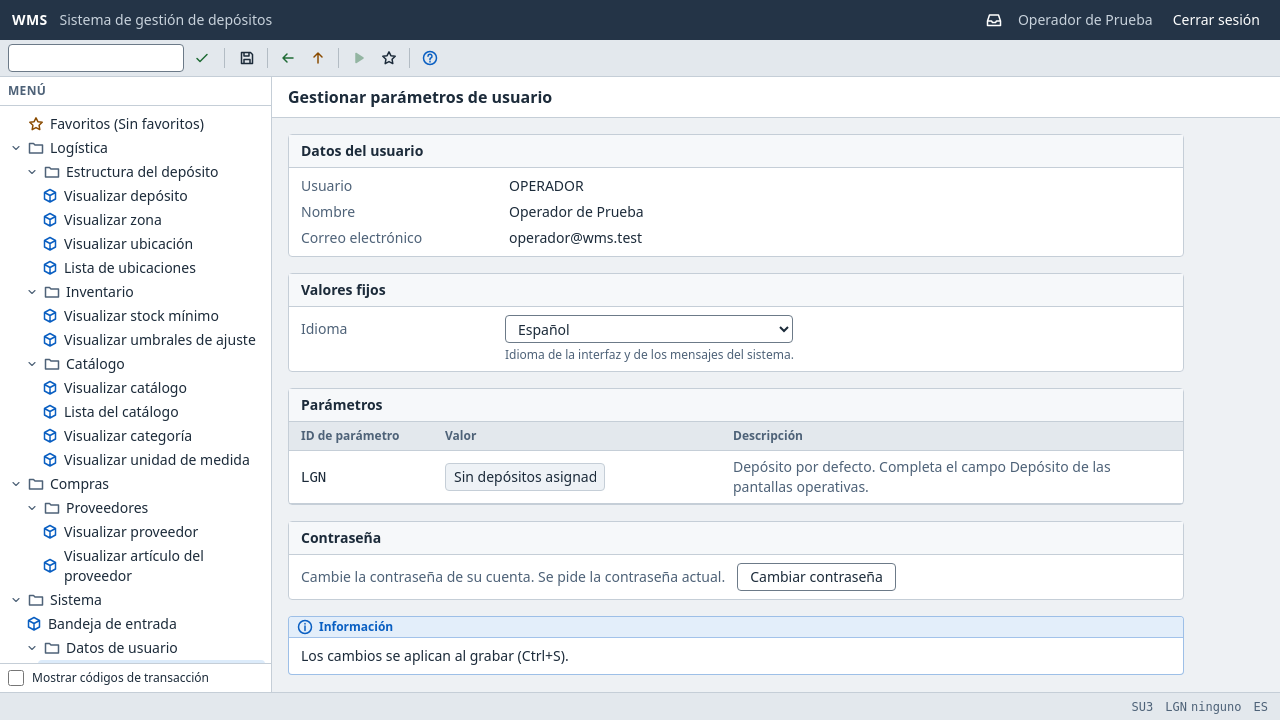
Test case: preferencias en el servidor (E2.21) › si el servidor rechaza el favorito lo revierte e informa el error
Click the button named "Favorito". click: (389,58)
box: [375, 44, 403, 72]
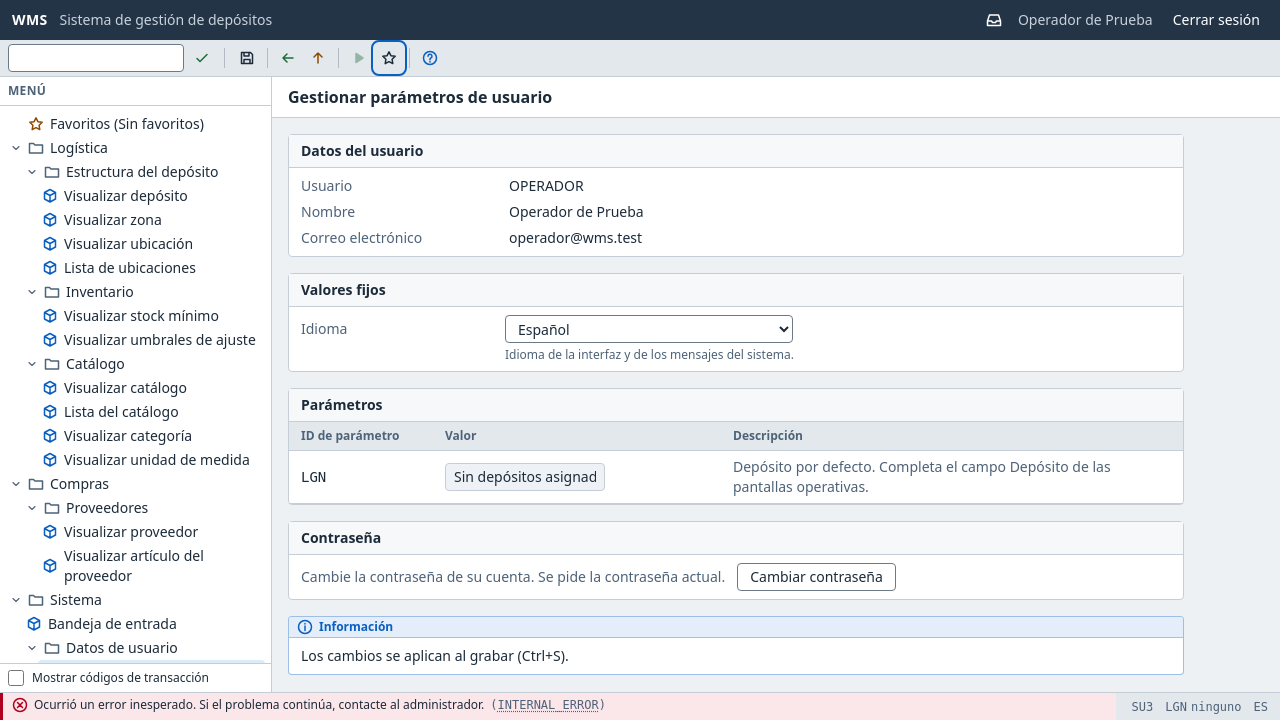
Expected: the message shows "Ocurrió un error inesperado.", [34, 696, 484, 712]
